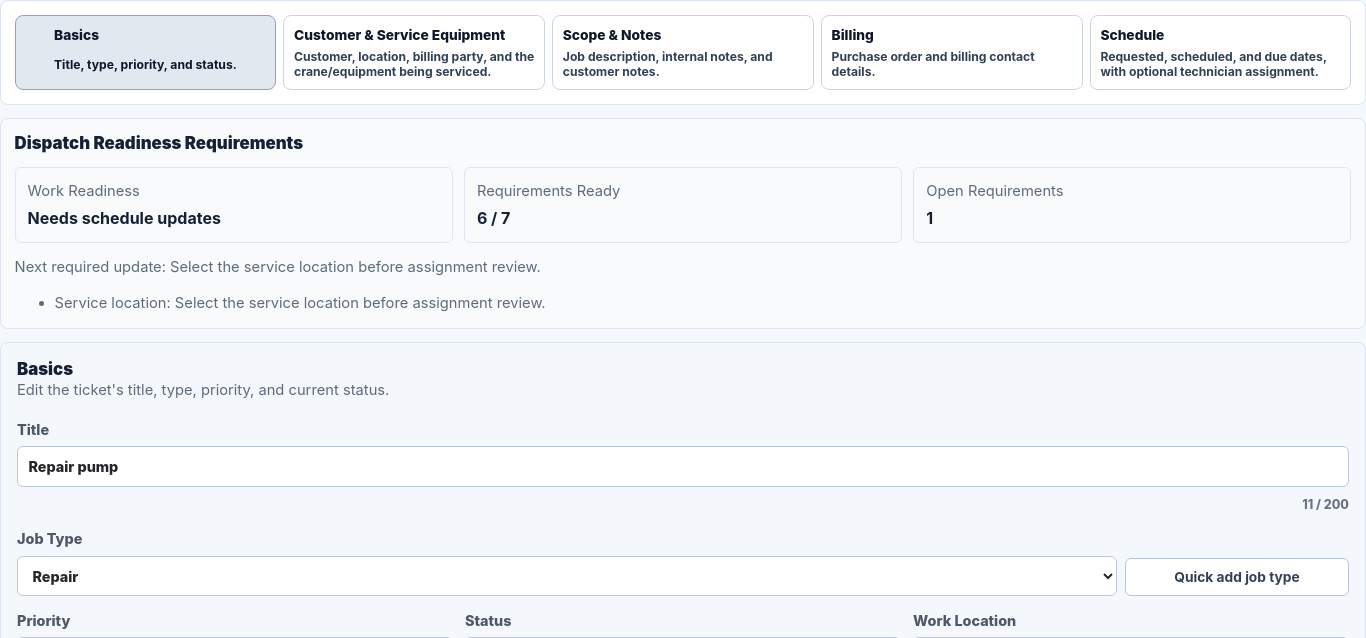
Test case: JobTicketEditorForm assignment and schedule requirements review › copies the selected customer address into the quick-add job location form
The width and height of the screenshot is (1366, 638).
Click the button "Customer & Service Equipment" at coordinates (414, 52), box [283,15,545,90]
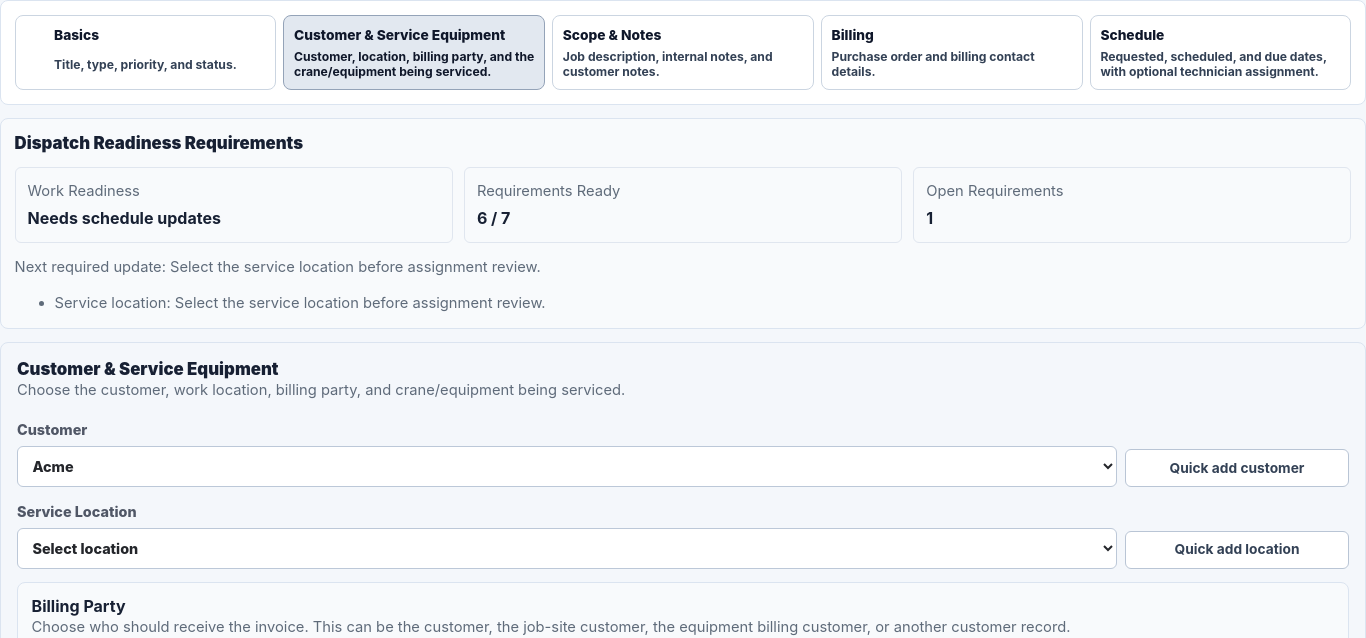
Click the button "Quick add location" at coordinates (1237, 550), box [1125,531,1349,569]
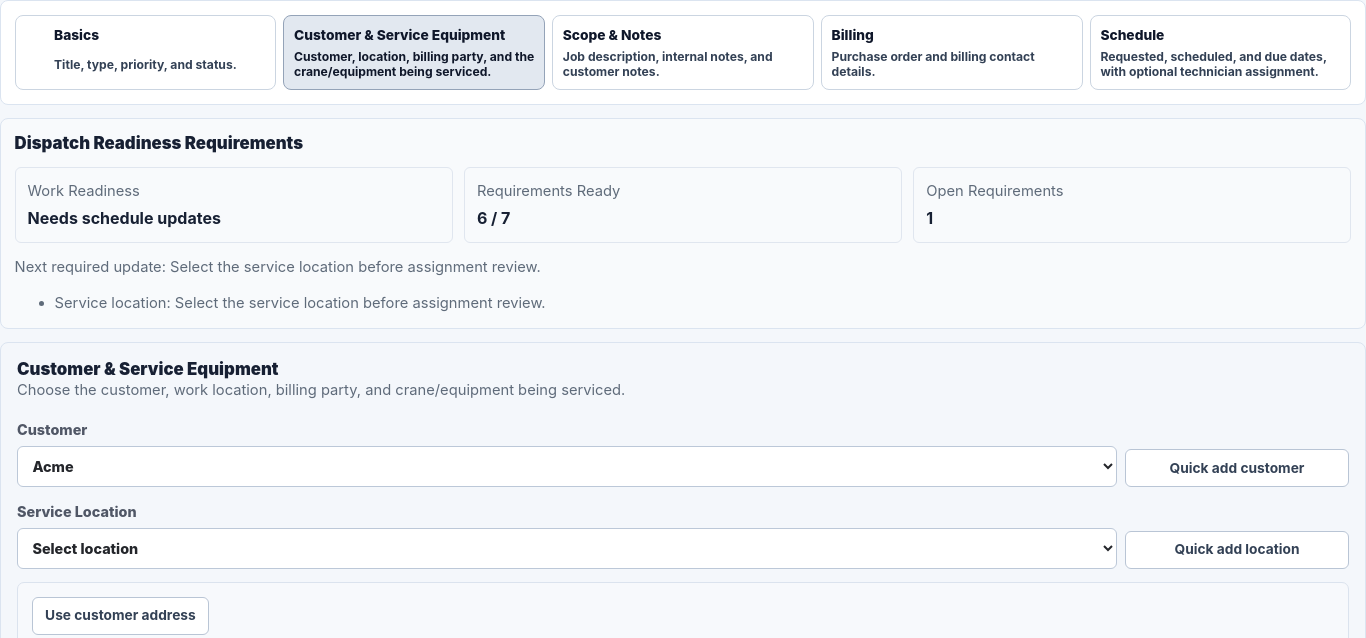
Click the button "Use customer address" at coordinates (120, 616), box [32,597,209,635]
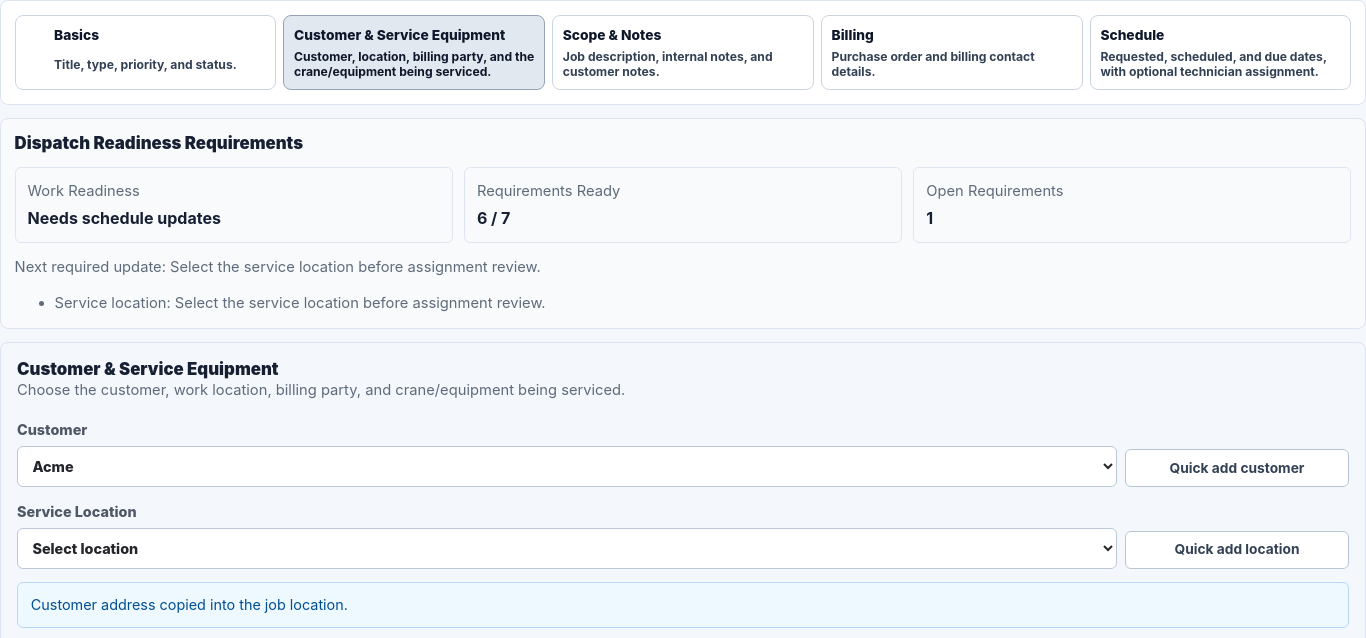
Expected: the text "Customer address copied into the job location." is shown, [17,582,1349,628]
